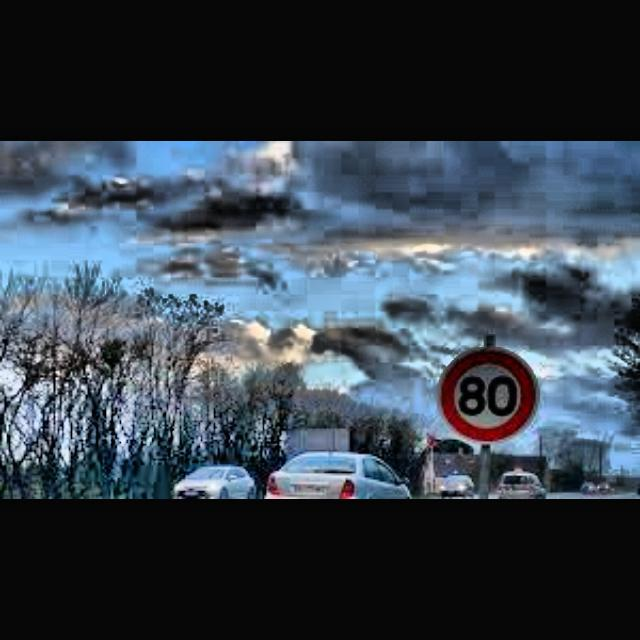speed_80: (439, 350, 536, 440)
